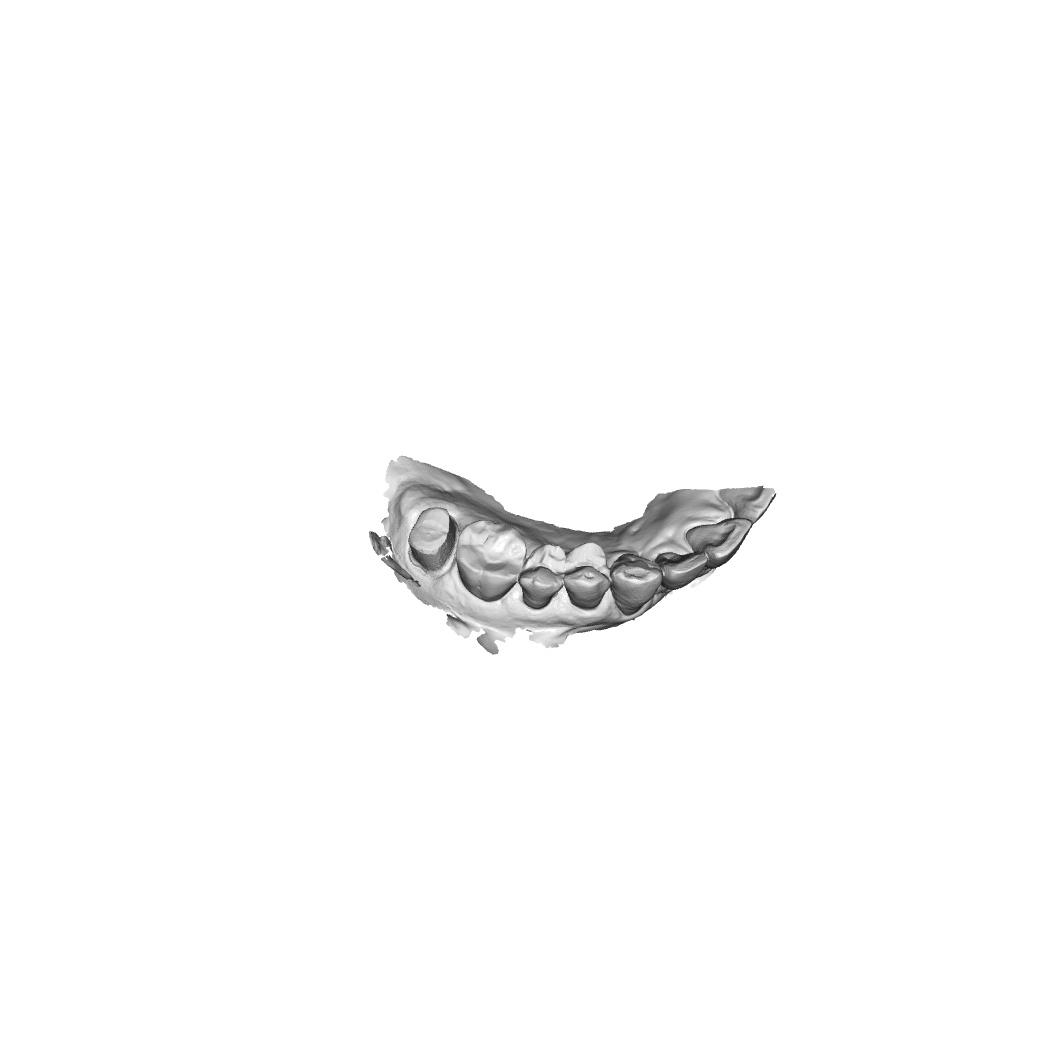canine: (607, 551, 663, 617)
crown: (407, 504, 455, 574)
incisor: (683, 517, 755, 570), (715, 484, 780, 525), (655, 551, 711, 591)
molar: (453, 517, 526, 603)
premolar: (517, 541, 570, 610), (563, 540, 609, 612)
